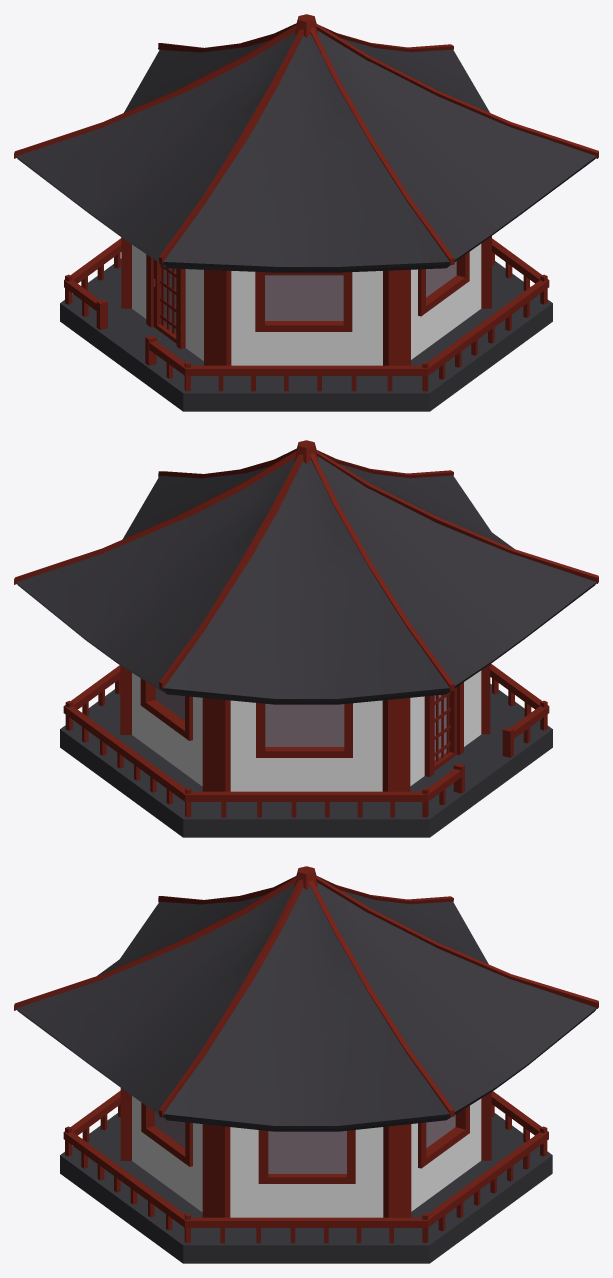
The model's file is Houme014.fbx.
3 views of the same model, one above another, from view 1: azimuth 30°, elevation 25°; view 2: azimuth 150°, elevation 25°; view 3: azimuth 270°, elevation 25° (orthographic).
Visible parts, largest first — view 1: houme014; view 2: houme014; view 3: houme014.
Boxes of the visible parts, x1,y1,x2,y2 form: houme014: (14,14,598,411); houme014: (14,440,598,837); houme014: (14,866,598,1263).
Size of the model in its own units: 1193 by 790 by 1371.
